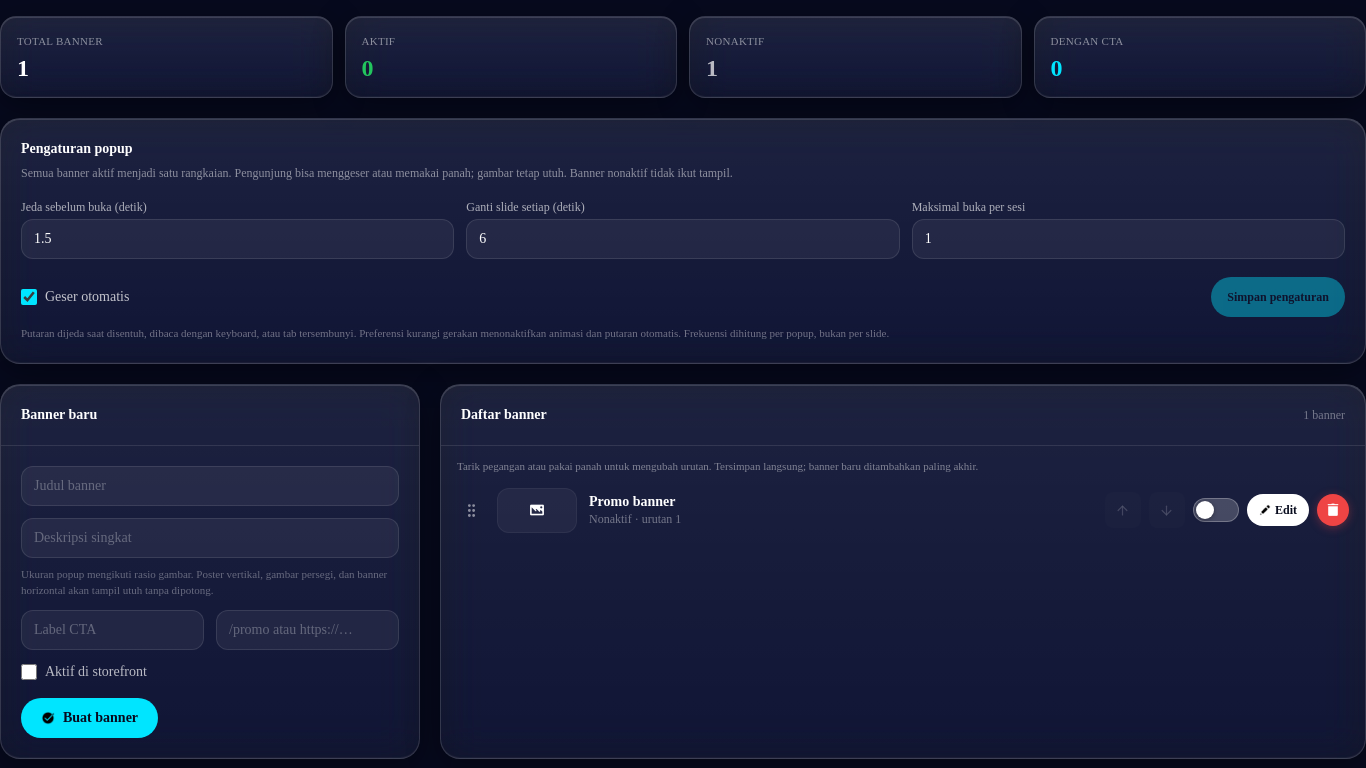
keeps failed switches unchanged and exposes an inline accessible error
This screenshot has width=1366, height=768.
Click the switch: (1216, 510) [1193,498,1239,522]
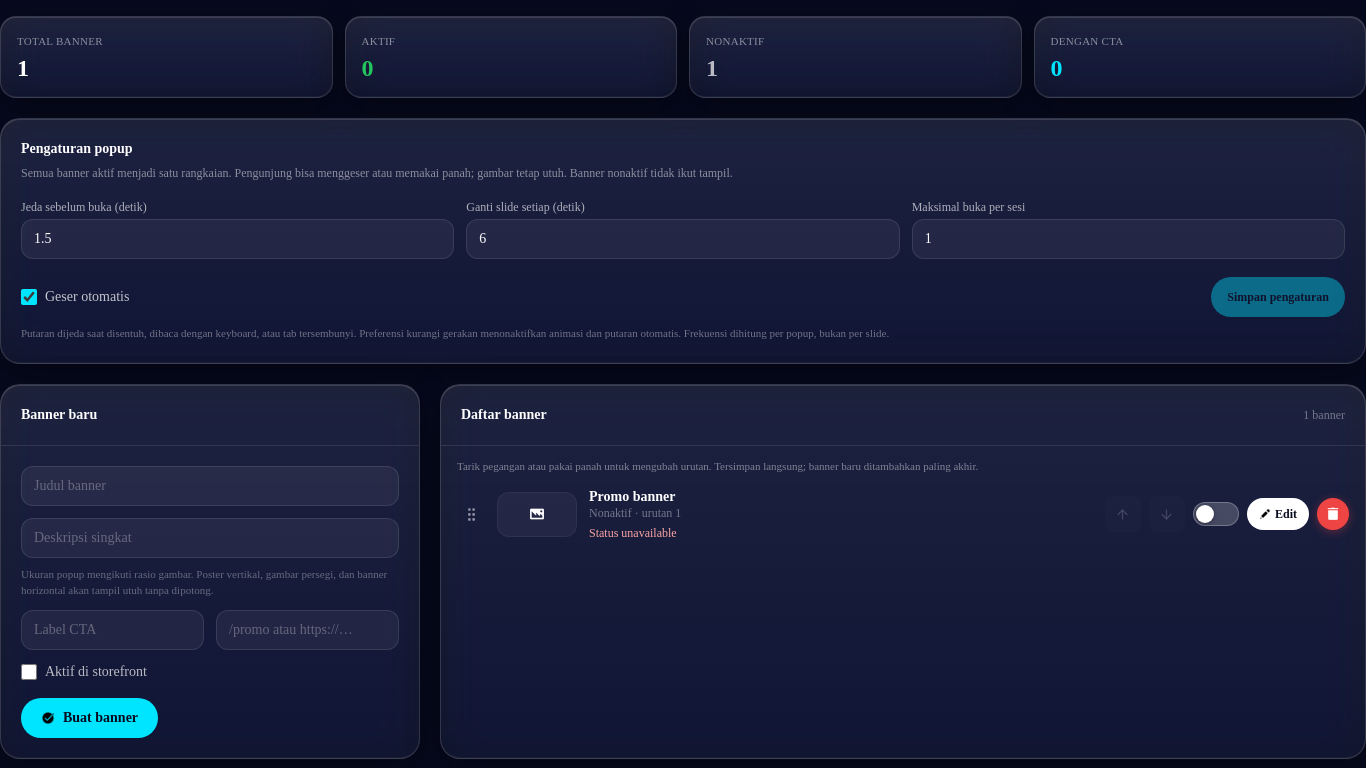
Check: the message reads "Status unavailable", box [589,526,677,540]
